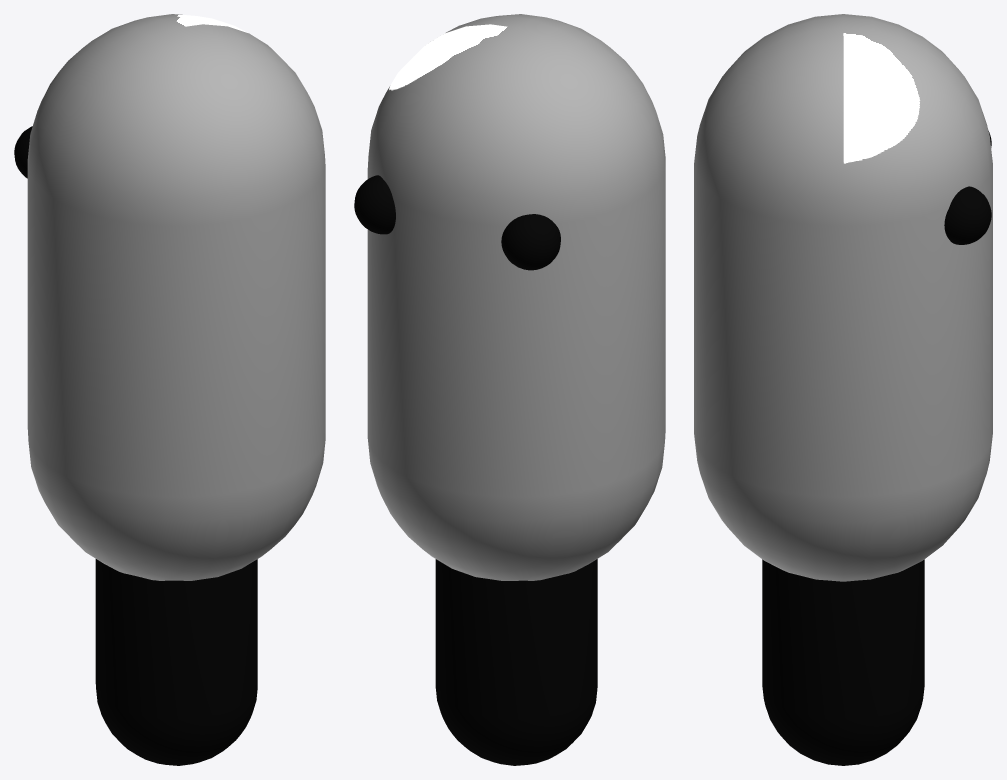
Rendered from CharacterModel_Dummy_1.fbx.
3 renders of one model, left to right at view 1: azimuth 30°, elevation 25°; view 2: azimuth 150°, elevation 25°; view 3: azimuth 270°, elevation 25°, orthographic.
Visible parts, largest first — view 1: Capsule, Capsule_1, Capsule_3; view 2: Capsule, Capsule_1, Capsule_3, Capsule_2; view 3: Capsule, Capsule_1, Capsule_2.
Boxes of the visible parts, box(x1,y1,x2,y2) form: Capsule: box(27, 14, 325, 580); Capsule_1: box(95, 559, 257, 765); Capsule_3: box(14, 126, 32, 178); Capsule: box(367, 14, 665, 580); Capsule_1: box(435, 559, 597, 765); Capsule_3: box(501, 214, 560, 270); Capsule_2: box(354, 175, 395, 234); Capsule: box(694, 14, 992, 581); Capsule_1: box(762, 559, 924, 765); Capsule_2: box(944, 186, 991, 244).
Bounding box in the file's own units: 0.4578 × 1.23 × 0.4578.
